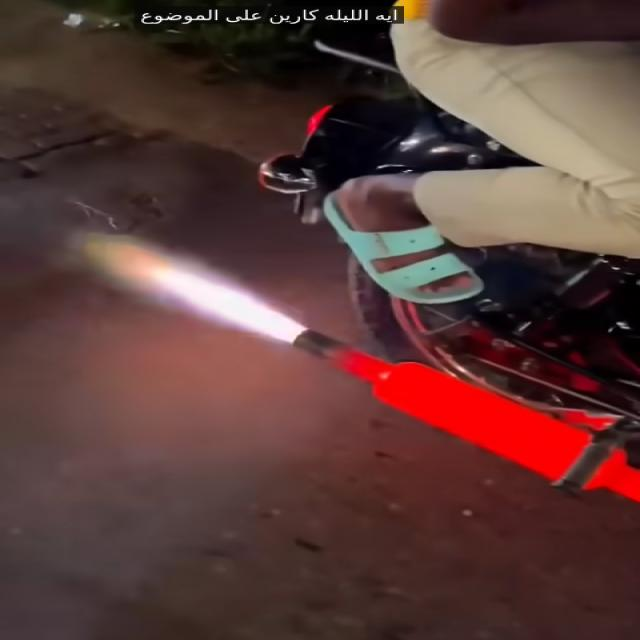fire: (78, 235, 306, 344)
